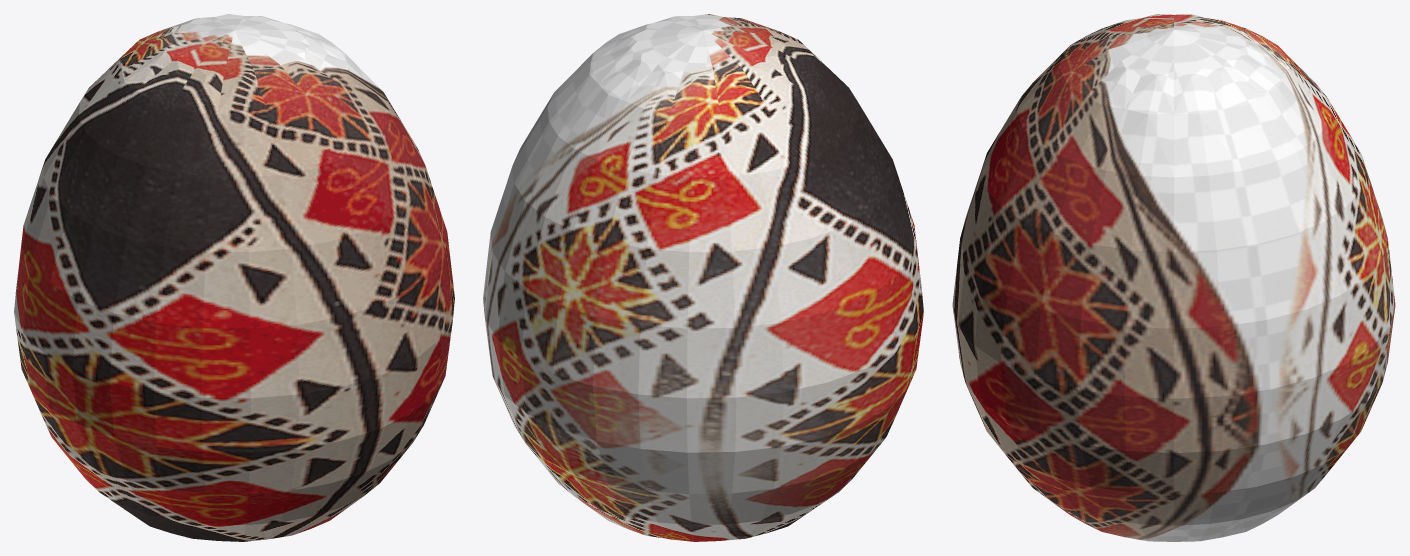
File: seperate.gltf
3 renders of one model, left to right at view 1: azimuth 30°, elevation 25°; view 2: azimuth 150°, elevation 25°; view 3: azimuth 270°, elevation 25°, orthographic.
Parts seen in each view (by area): view 1: Mesh_0; view 2: Mesh_0; view 3: Mesh_0.
Boxes of the visible parts, x1,y1,x2,y2 form: Mesh_0: (14, 14, 454, 541); Mesh_0: (483, 14, 923, 541); Mesh_0: (952, 14, 1395, 541).
Bounding box in the file's own units: 13.2 × 16.11 × 13.19.
Materials: 1 (1 with a texture image).
